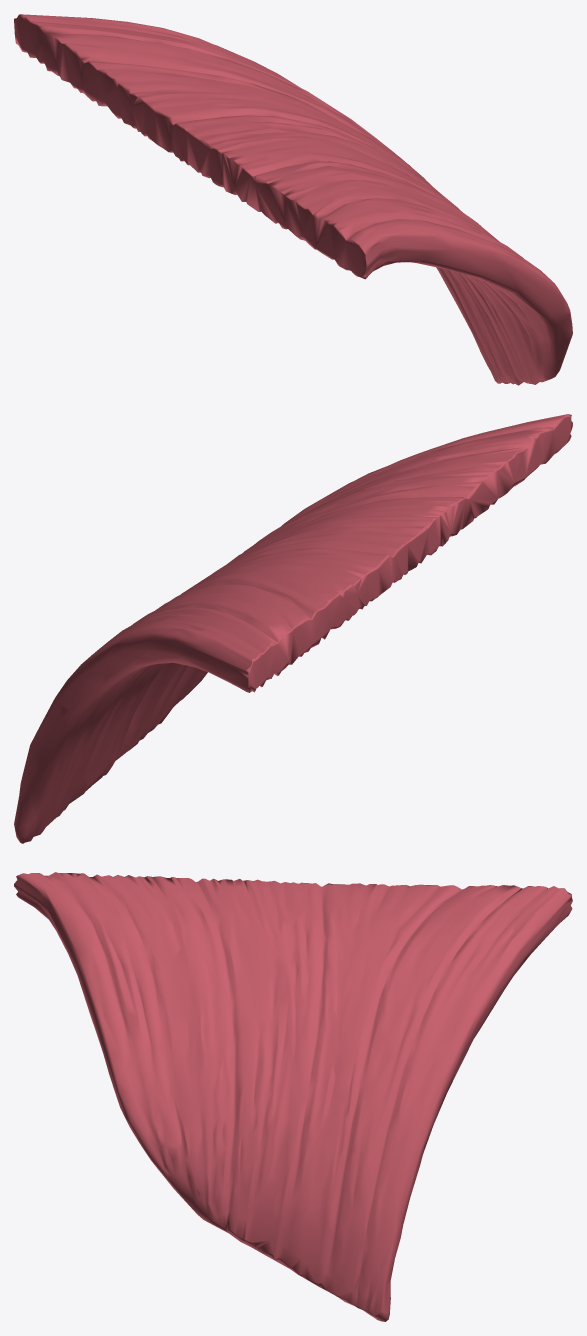
The picture shows the model from 3 angles, top to bottom: view 1: azimuth 30°, elevation 25°; view 2: azimuth 150°, elevation 25°; view 3: azimuth 270°, elevation 25°; orthographic projection. The views are drawn at different scales.
Parts seen in each view (by area): view 1: 左侧咽上缩肌; view 2: 左侧咽上缩肌; view 3: 左侧咽上缩肌.
Part boxes in pixels (bbox=[...]): 左侧咽上缩肌: bbox=[14, 14, 572, 385]; 左侧咽上缩肌: bbox=[14, 414, 572, 843]; 左侧咽上缩肌: bbox=[14, 872, 572, 1321].
Size of the model in its own units: 0.0486 by 0.0481 by 0.079.
